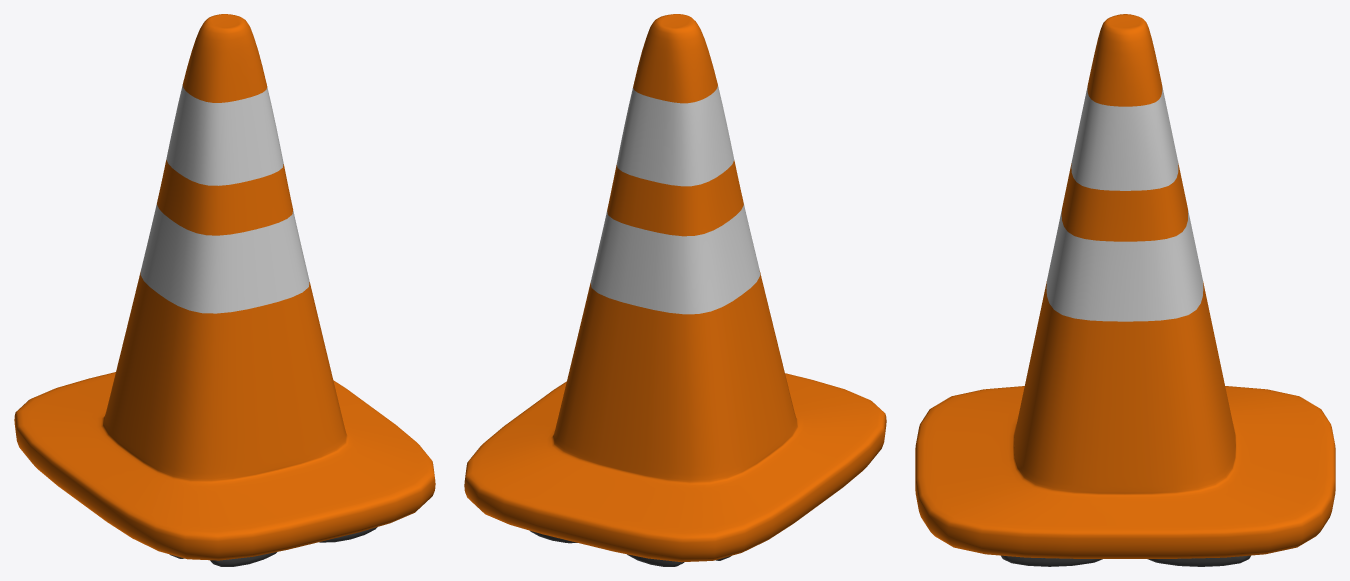
File: runaway_items_cone.fbx
3 views of the same model, side by side, from view 1: azimuth 30°, elevation 25°; view 2: azimuth 150°, elevation 25°; view 3: azimuth 270°, elevation 25° (orthographic). The views are drawn at different scales.
Visible parts, largest first — view 1: Cube; view 2: Cube; view 3: Cube.
Boxes of the visible parts, x1,y1,x2,y2 form: Cube: [14, 14, 435, 566]; Cube: [464, 14, 886, 566]; Cube: [915, 14, 1335, 566].
Size of the model in its own units: 968 by 1487 by 1147.
